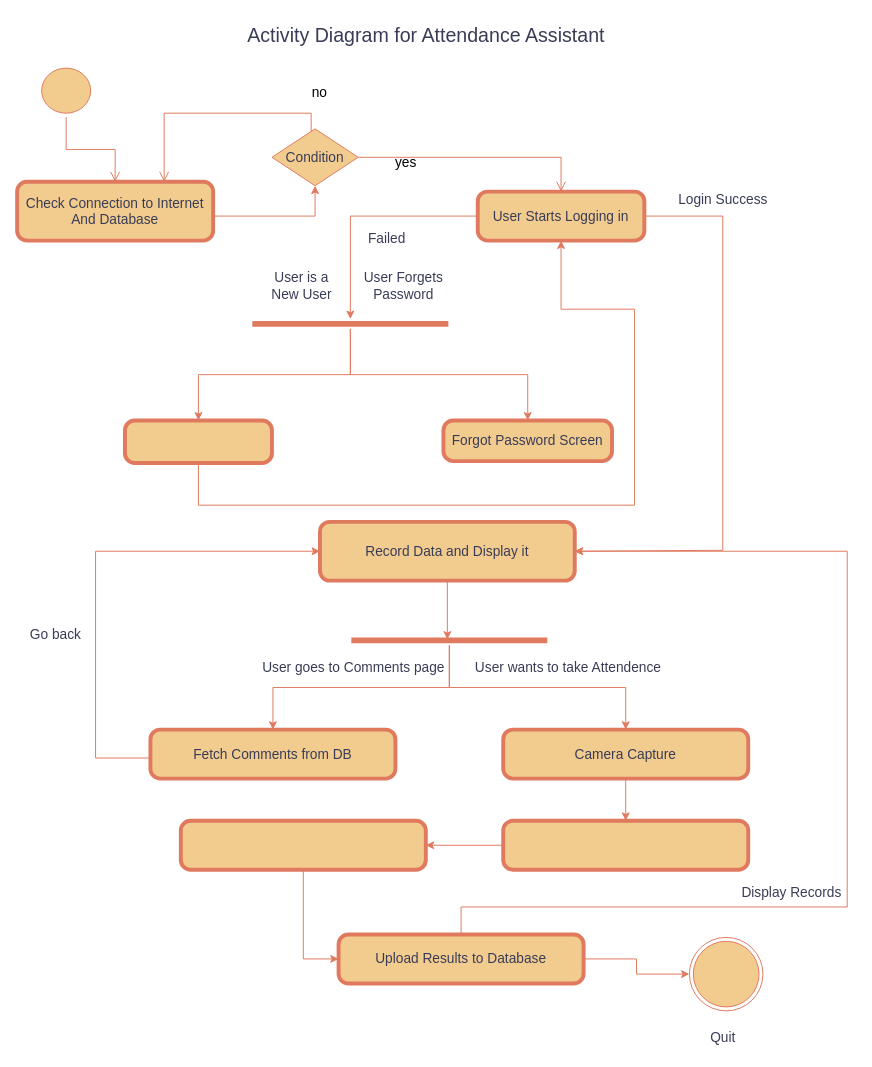
The diagram is 872 pixels wide and 1067 high, and some of its shapes have lost their labels. The centre of each missing label's shape, as x and y in pixels:
Download Images: (x=625, y=845)
Process Images: (x=303, y=845)
Signup: (x=198, y=441)
Start: (x=66, y=90)
